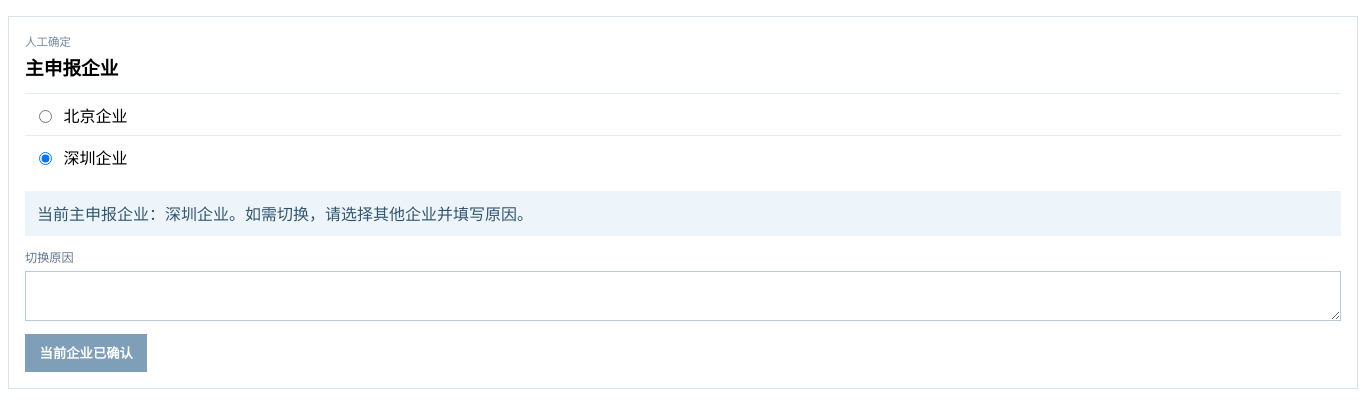
Test: makes the unchanged current entity explicit and only enables a real switch
expect the button "当前企业已确认" is disabled: met, box [25,334,148,372]
Click the radio button labelled "北京企业" at (45, 116), box [39,106,52,127]
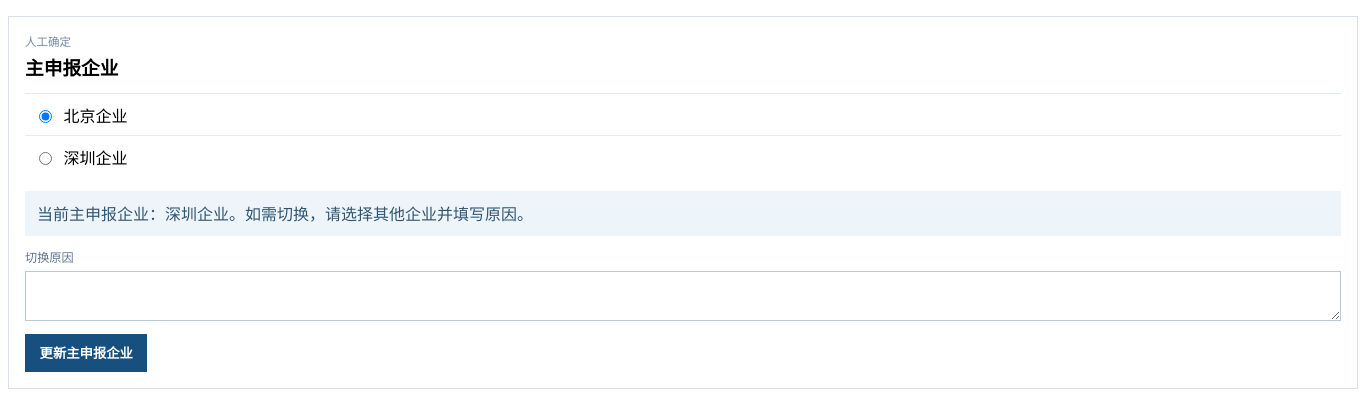
expect the button "更新主申报企业" is enabled: met, box [25,334,148,372]
